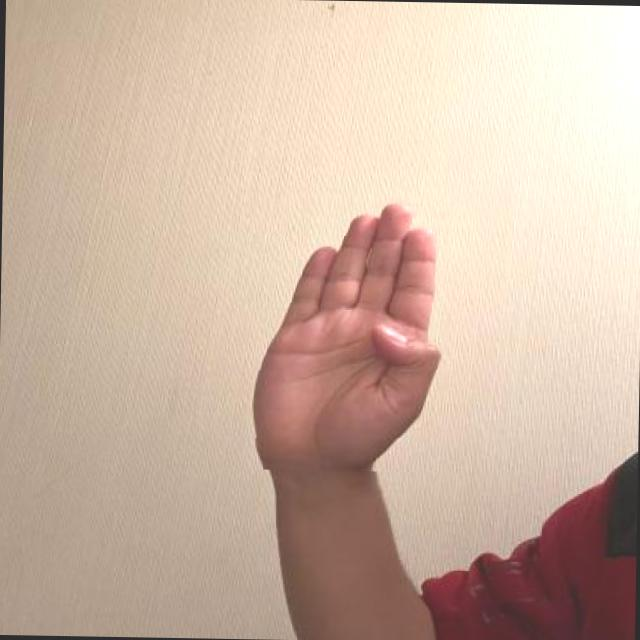B: (243, 197, 452, 472)
